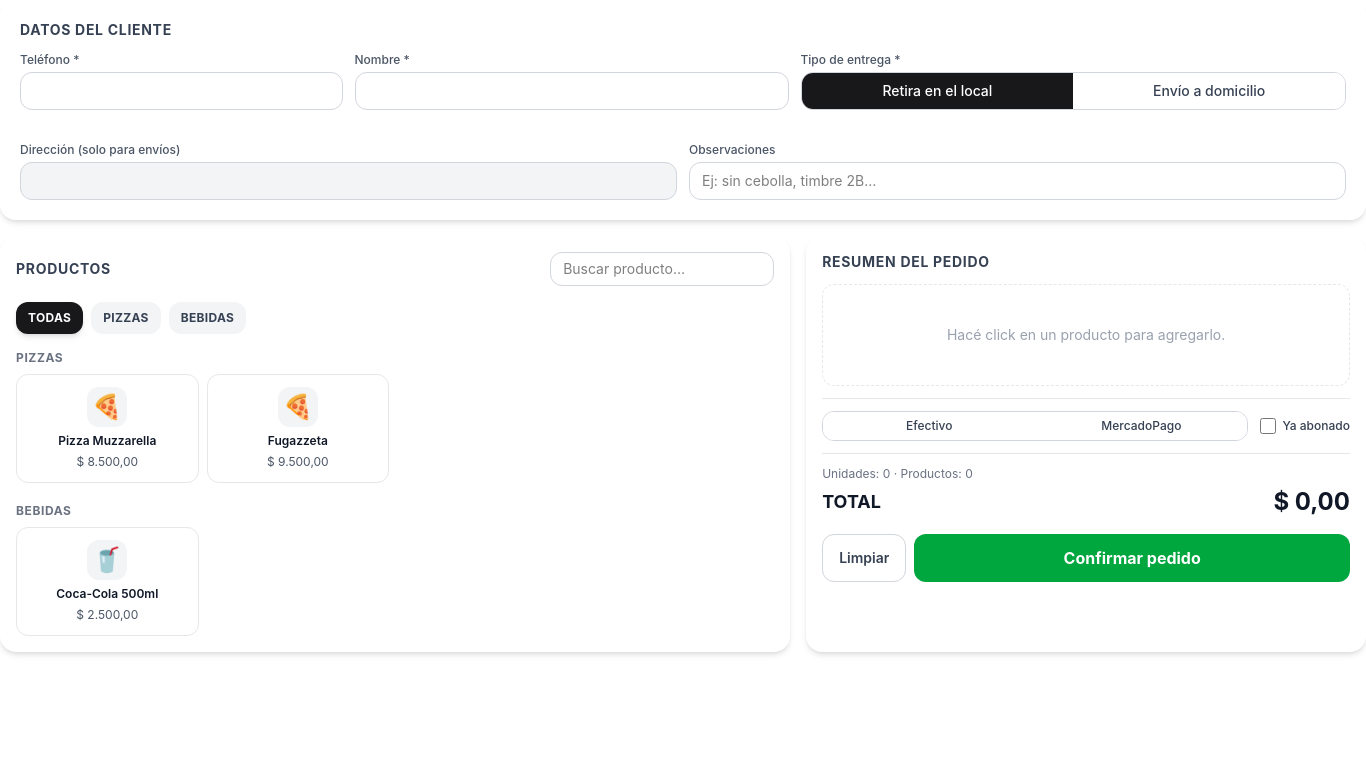
Scenario: TomarPedidoView › filtra el catálogo por categoría y por búsqueda
This screenshot has width=1366, height=768.
Expected: the button "🍕 Pizza Muzzarella $ 8.500,00" is shown, [16, 374, 198, 483]
Click the button "Bebidas": {"x": 207, "y": 318} [169, 302, 246, 334]
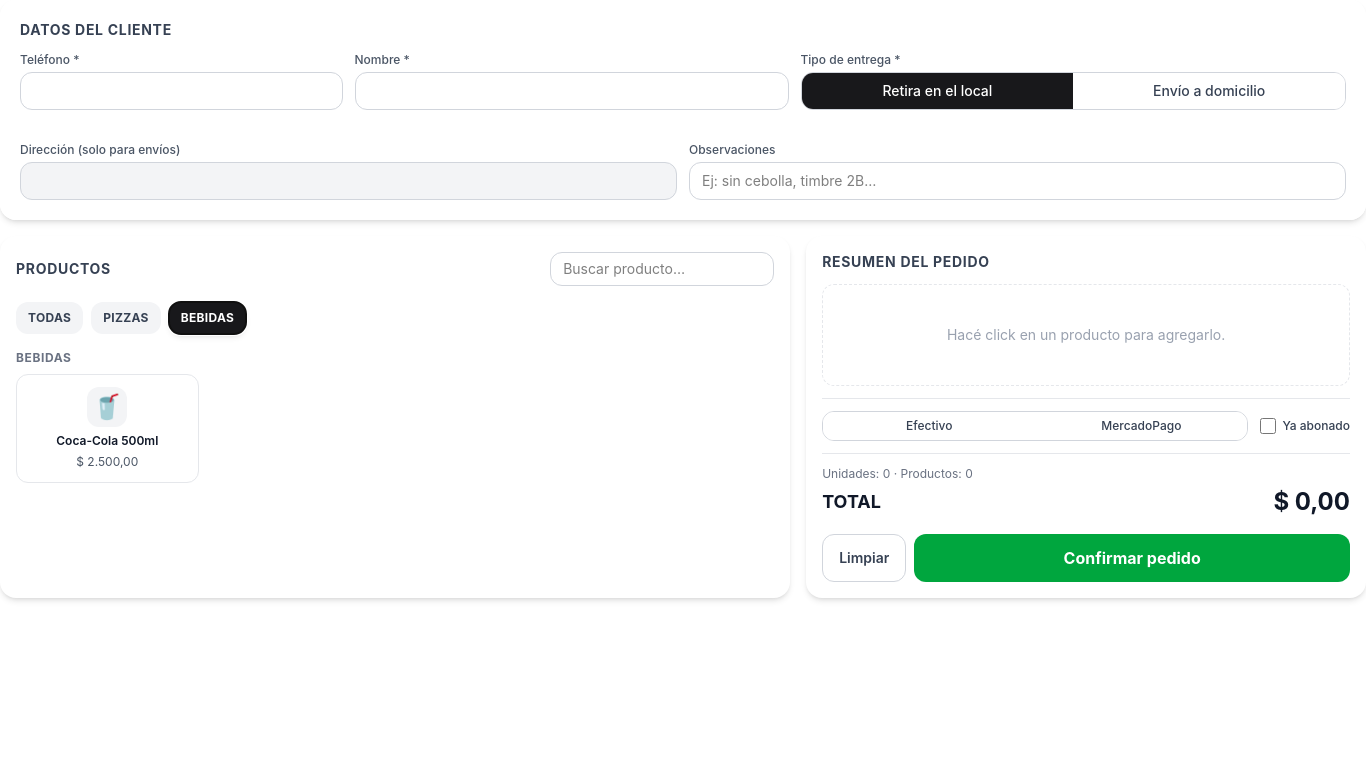
Expected: the button "🥤 Coca-Cola 500ml $ 2.500,00" is shown, [16, 374, 198, 483]
Expected: the button "Fugazzeta" is gone
Click the button "Todas": {"x": 50, "y": 318} [16, 302, 83, 334]
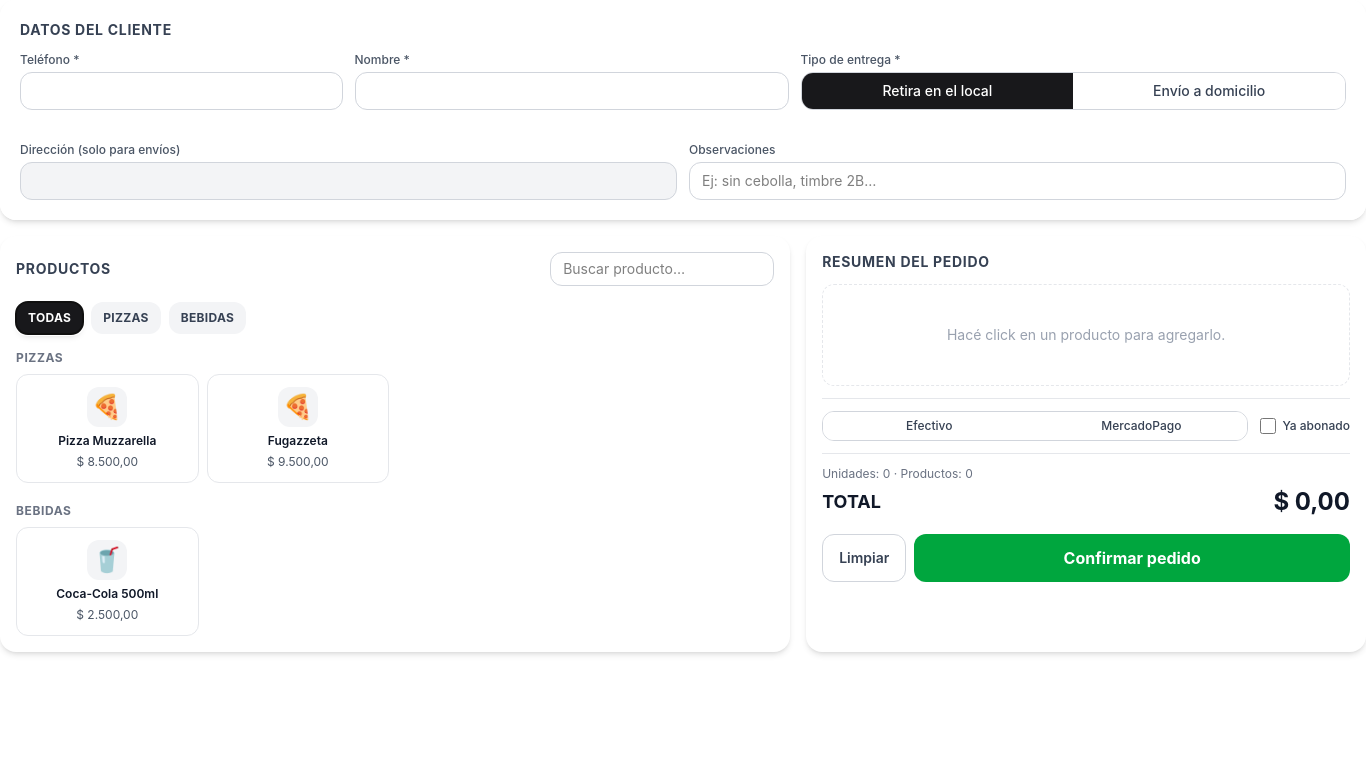
In the search field labelled "Buscar producto": {"x": 662, "y": 269} [550, 252, 774, 286], type "fuga"
Then press Enter
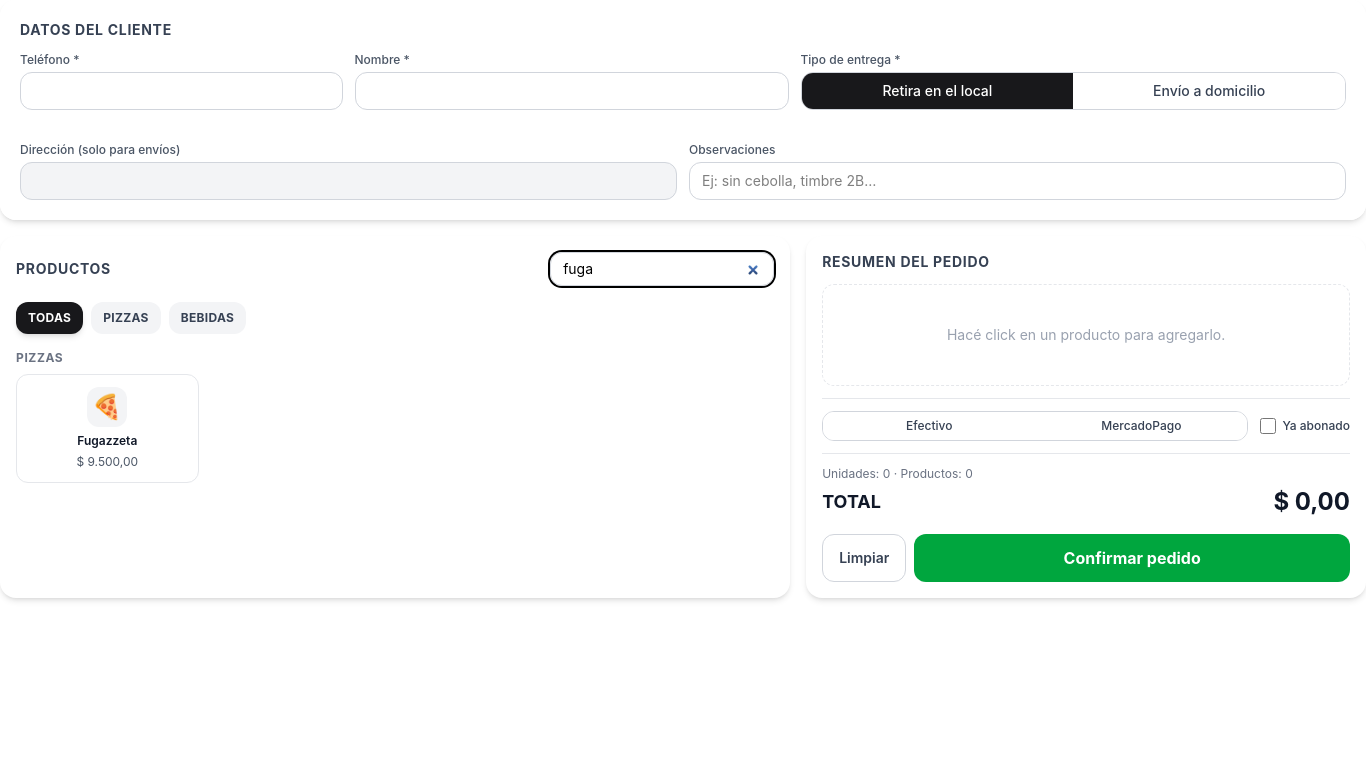
Expected: the button "🍕 Fugazzeta $ 9.500,00" is shown, [16, 374, 198, 483]
Expected: the button "Pizza Muzzarella" is gone
Replace the text in the search field named "Buscar producto" with "sushi": {"x": 662, "y": 269} [550, 252, 774, 286]
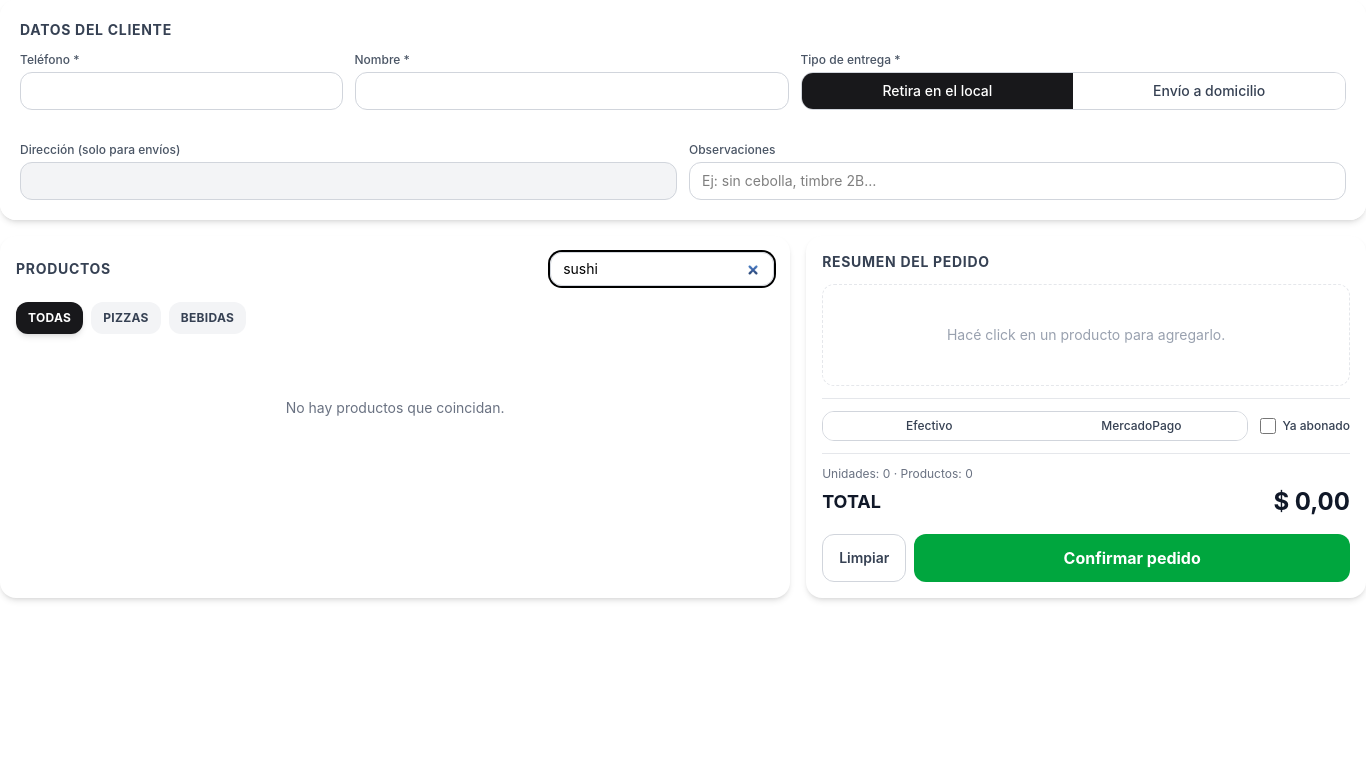
Expected: the text "No hay productos que coincidan." is shown, [286, 399, 504, 416]
